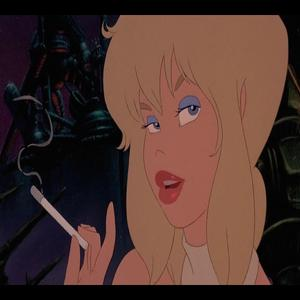cigarette: (27, 185, 88, 248)
